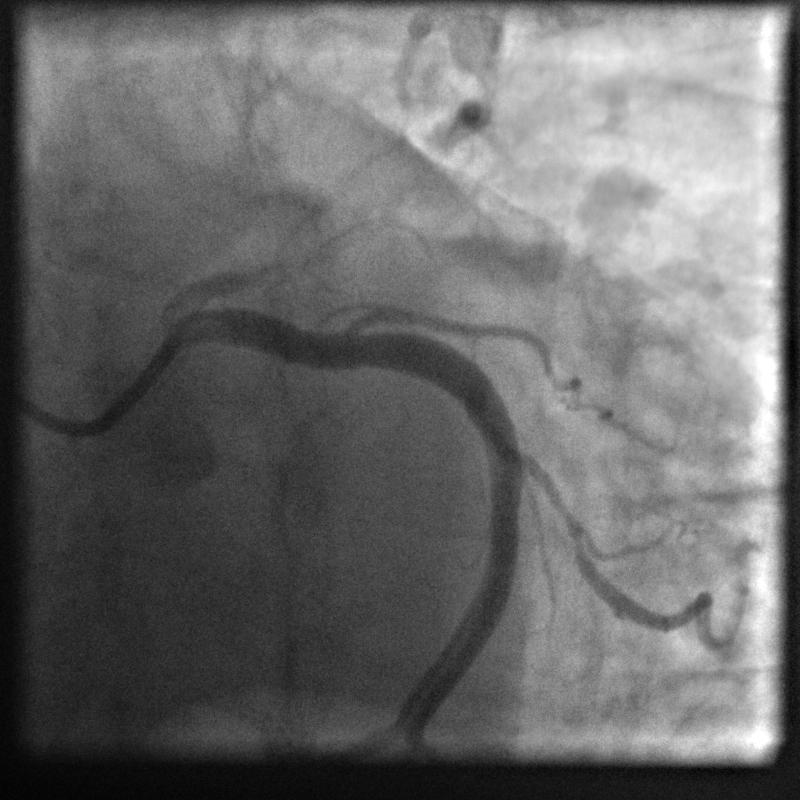Stenosis: (520, 442, 595, 569)
